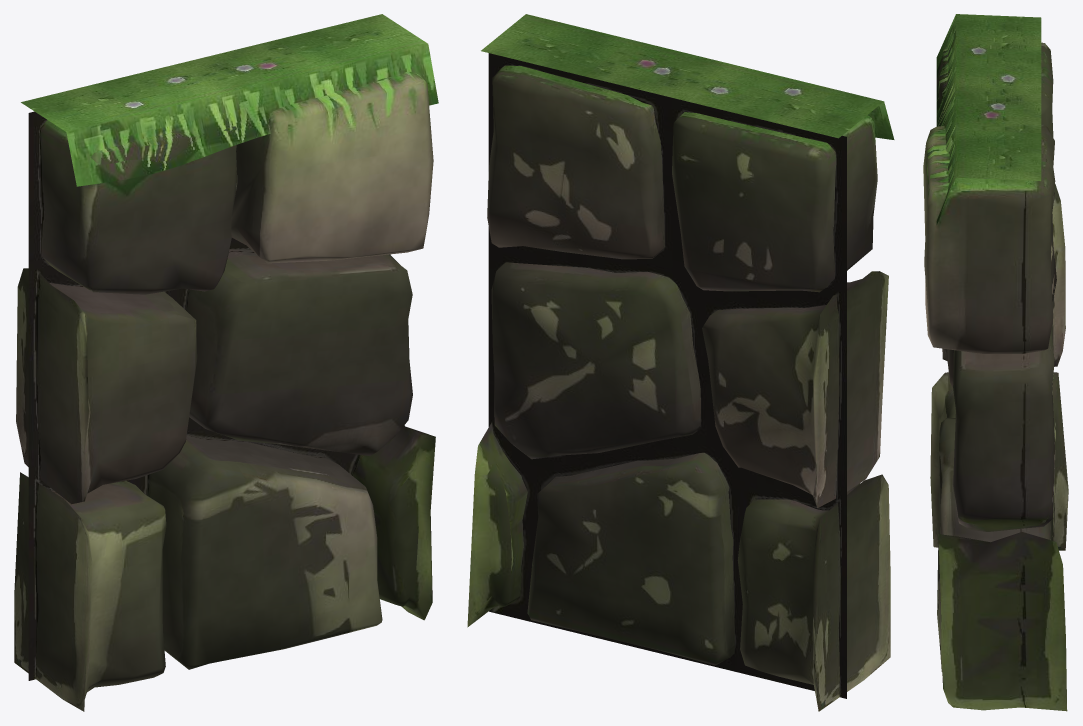
File: wall1_b.glb
The picture shows the model from 3 angles, left to right: view 1: azimuth 30°, elevation 25°; view 2: azimuth 150°, elevation 25°; view 3: azimuth 270°, elevation 25°; orthographic projection. The views are drawn at different scales.
Parts seen in each view (by area): view 1: wall1_b; view 2: wall1_b; view 3: wall1_b.
Boxes of the visible parts, x1,y1,x2,y2 form: wall1_b: (14,14,438,711); wall1_b: (467,14,894,711); wall1_b: (923,14,1068,711).
Bounding box in the file's own units: 1 × 1.53 × 0.3753.
1 material, 1 textured.
